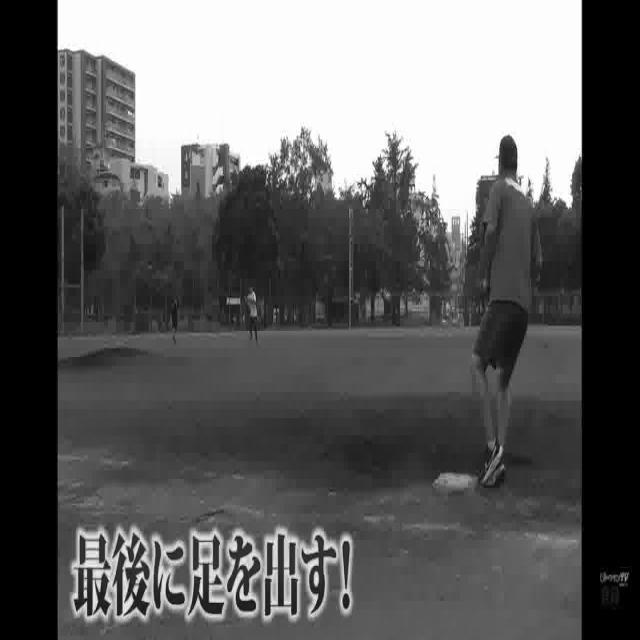base: (431, 472, 481, 494)
shoe: (484, 444, 504, 486)
